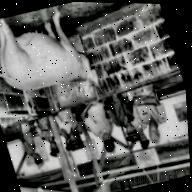boar: (0, 0, 103, 110)
